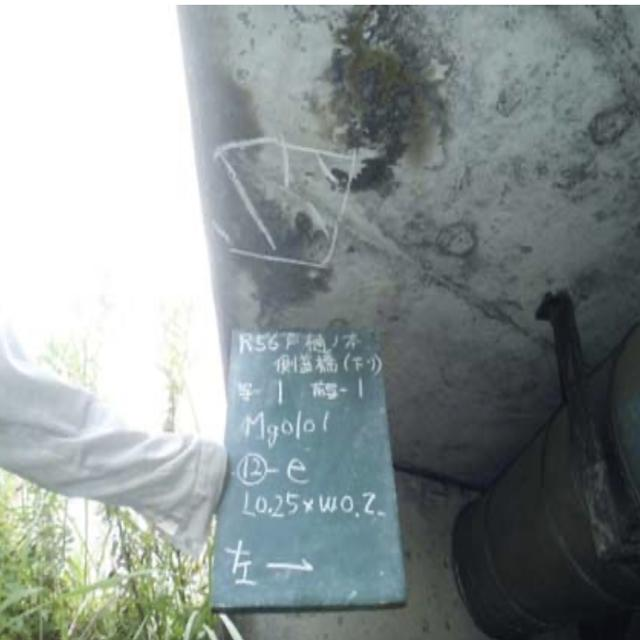leakage: (192, 59, 308, 318)
